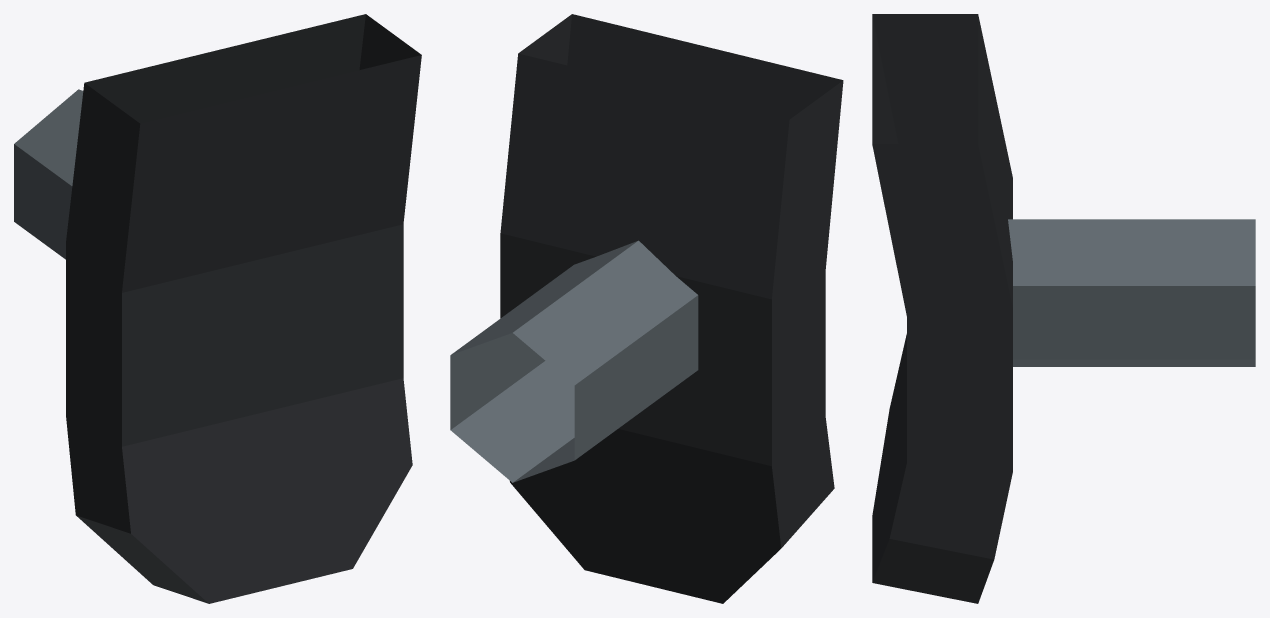
Rendered from SM_Prop_AirDrill_02_Trigger.fbx.
3 views of the same model, side by side, from view 1: azimuth 30°, elevation 25°; view 2: azimuth 150°, elevation 25°; view 3: azimuth 270°, elevation 25° (orthographic). The views are drawn at different scales.
Visible parts, largest first — view 1: SM_Prop_AirDrill_02_Trigger; view 2: SM_Prop_AirDrill_02_Trigger; view 3: SM_Prop_AirDrill_02_Trigger.
Boxes of the visible parts, bbox=[...] form: SM_Prop_AirDrill_02_Trigger: bbox=[14, 14, 421, 603]; SM_Prop_AirDrill_02_Trigger: bbox=[450, 14, 843, 603]; SM_Prop_AirDrill_02_Trigger: bbox=[872, 14, 1255, 603].
Size of the model in its own units: 2.65 by 4.68 by 3.31.
